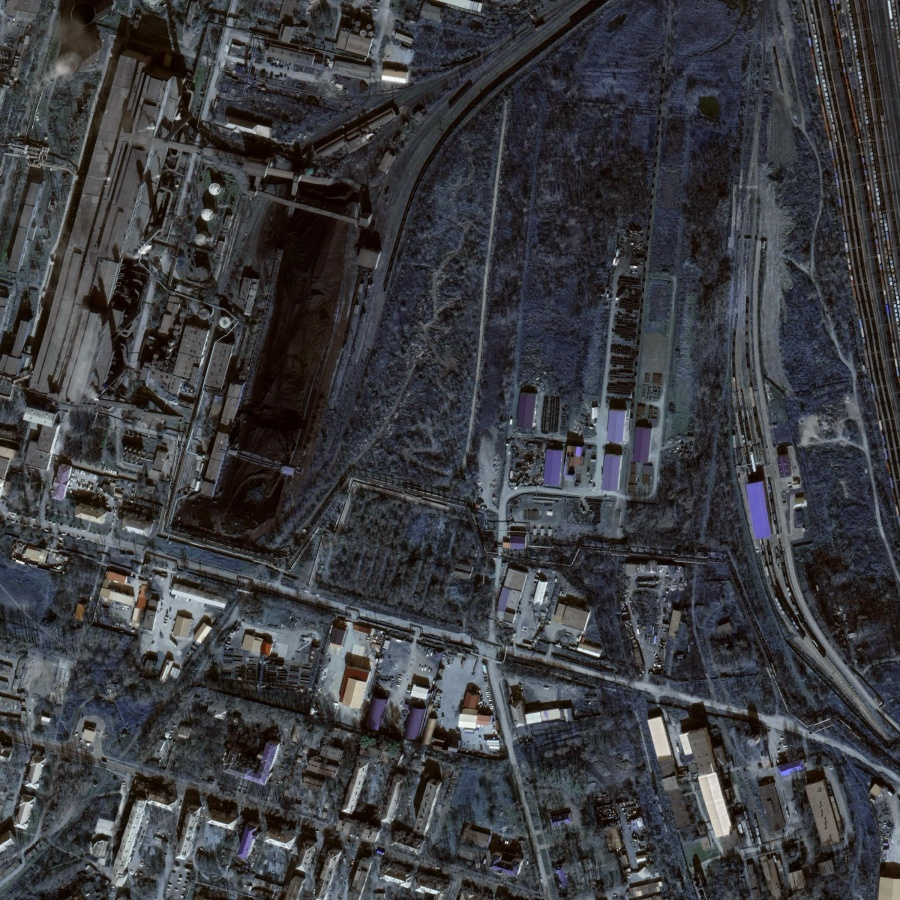PowerPlant: (78, 105, 382, 539)
